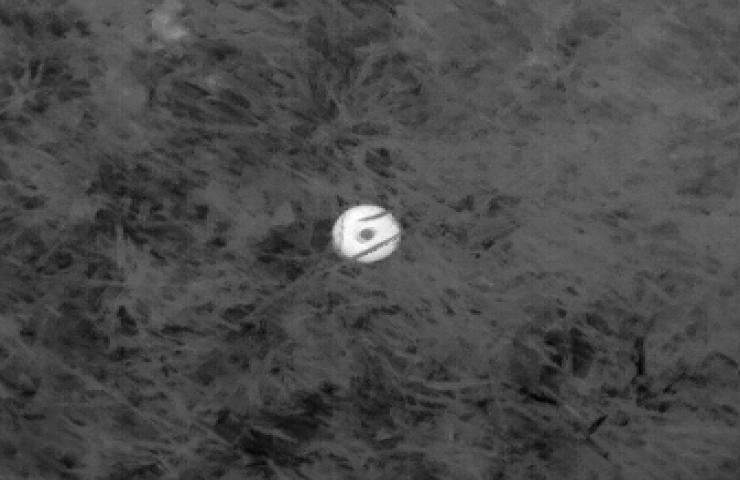landmines: (330, 201, 406, 268)
